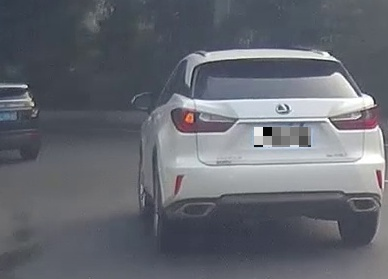L_light: (170, 107, 238, 133)
R_light: (328, 105, 379, 130)
T_light: (253, 58, 301, 62)
day-left: (162, 53, 385, 246)
plate_1: (254, 127, 311, 147)
